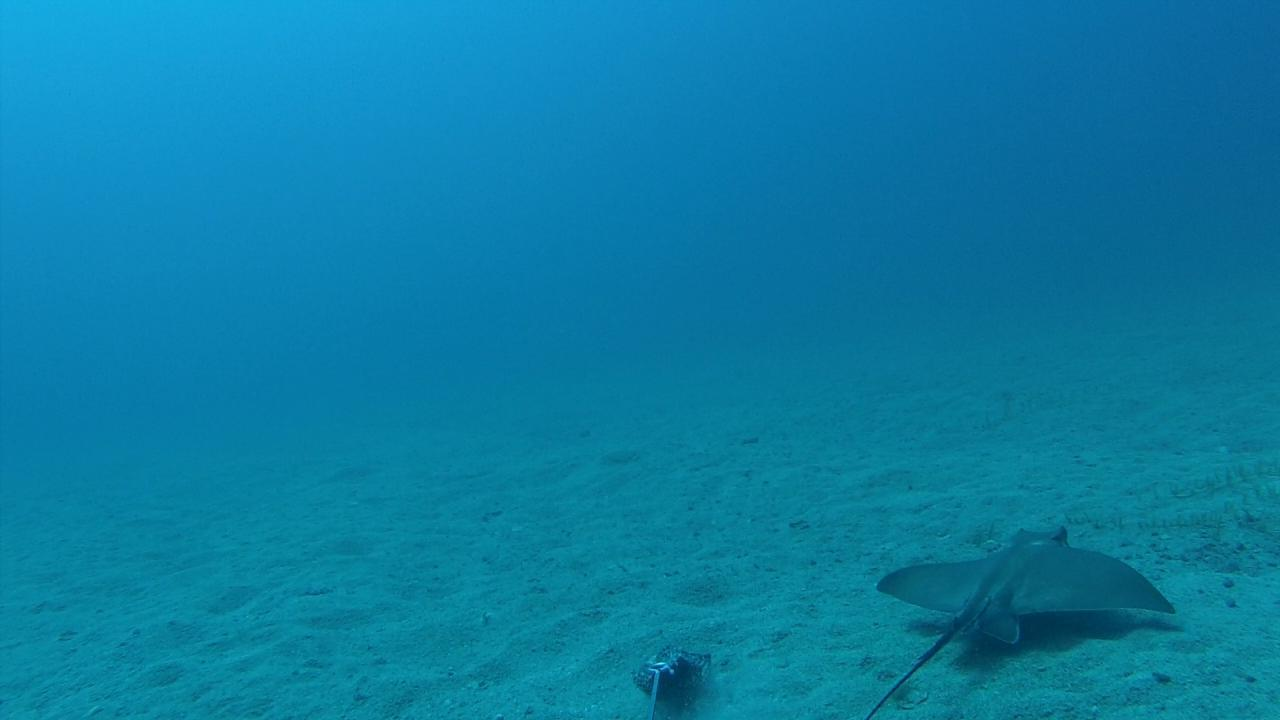dasyatis: (863, 524, 1179, 720)
